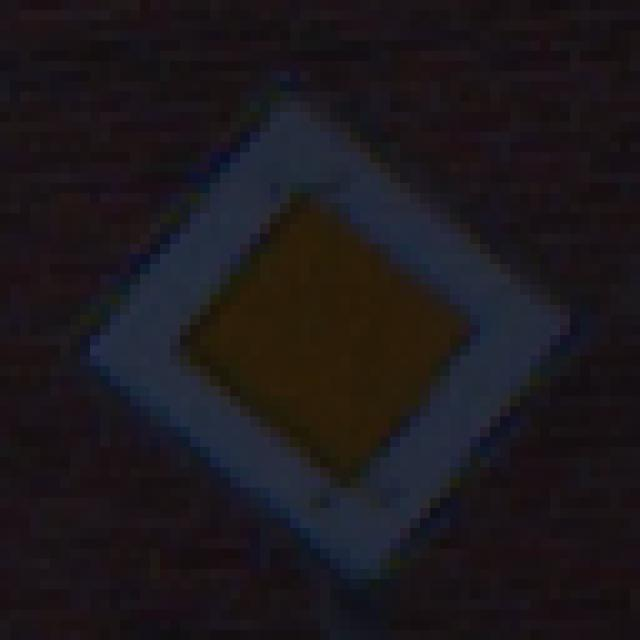Main Road: (61, 52, 591, 590)
